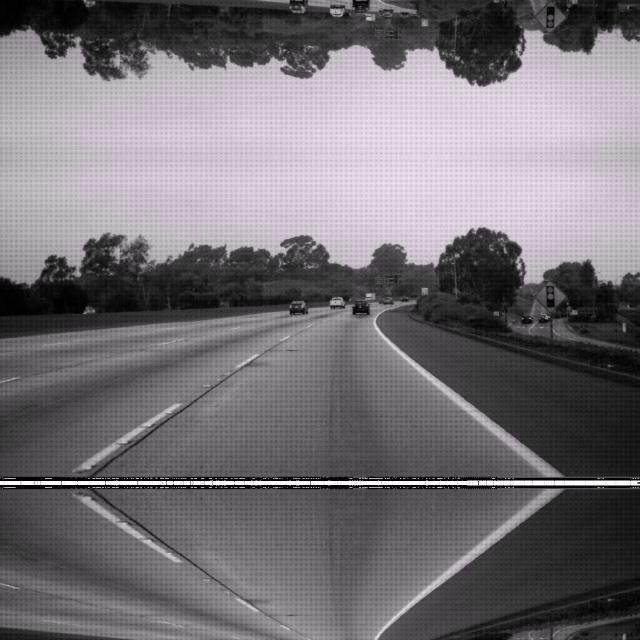signalAhead: (534, 278, 566, 312), (534, 1, 566, 34)
